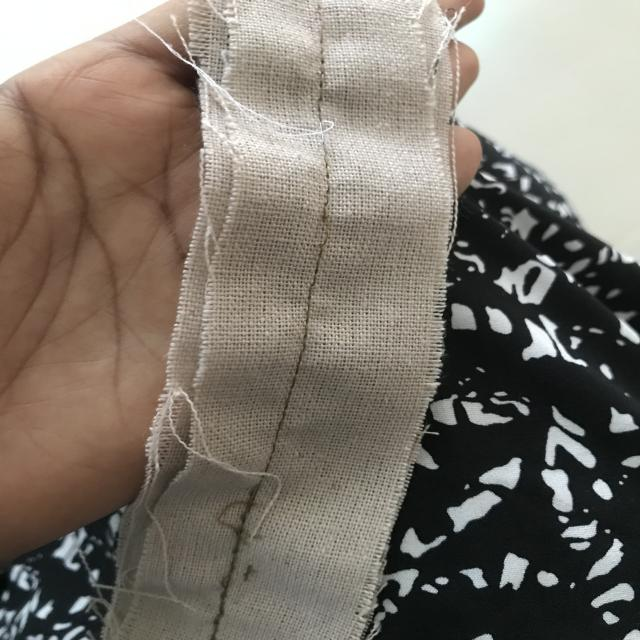skip: (311, 202, 342, 258)
